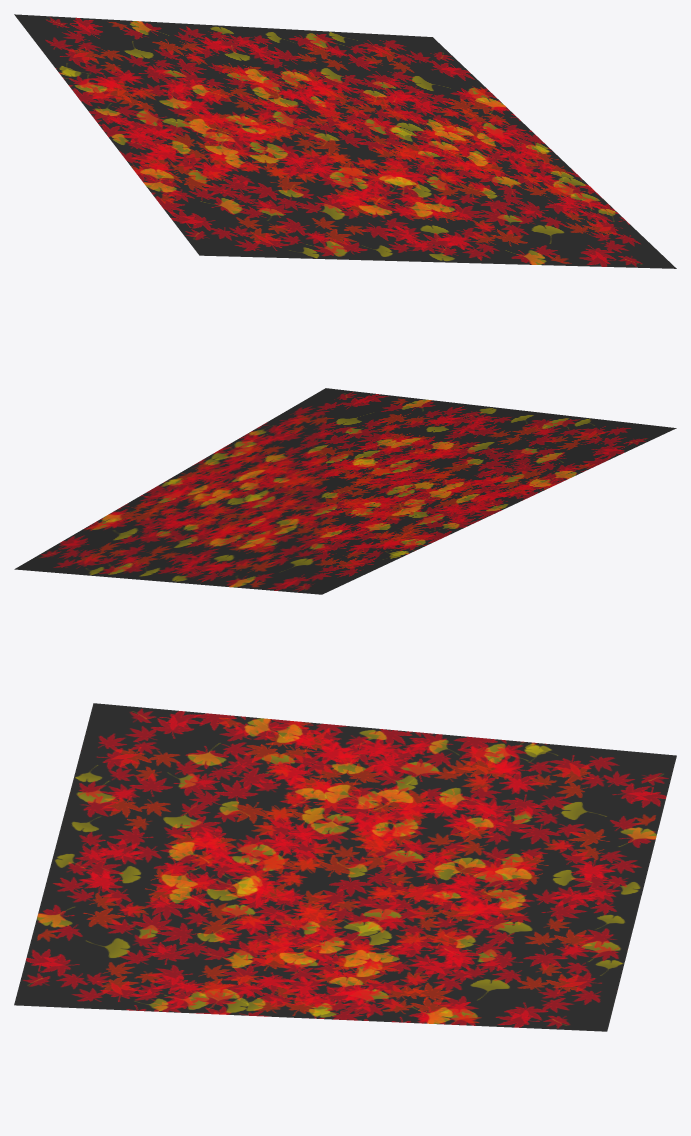
The model's file is CourseAki_CurveFloor_3_39.fbx.
The picture shows the model from 3 angles, top to bottom: view 1: azimuth 30°, elevation 25°; view 2: azimuth 150°, elevation 25°; view 3: azimuth 270°, elevation 25°; orthographic projection. The views are drawn at different scales.
Parts seen in each view (by area): view 1: polySurface488; view 2: polySurface488; view 3: polySurface488.
Boxes of the visible parts, x1,y1,x2,y2 form: polySurface488: (14, 14, 676, 268); polySurface488: (14, 388, 676, 594); polySurface488: (14, 703, 676, 1031).
Bounding box in the file's own units: 5.68 × 2 × 6.67.
1 material, 1 textured.
